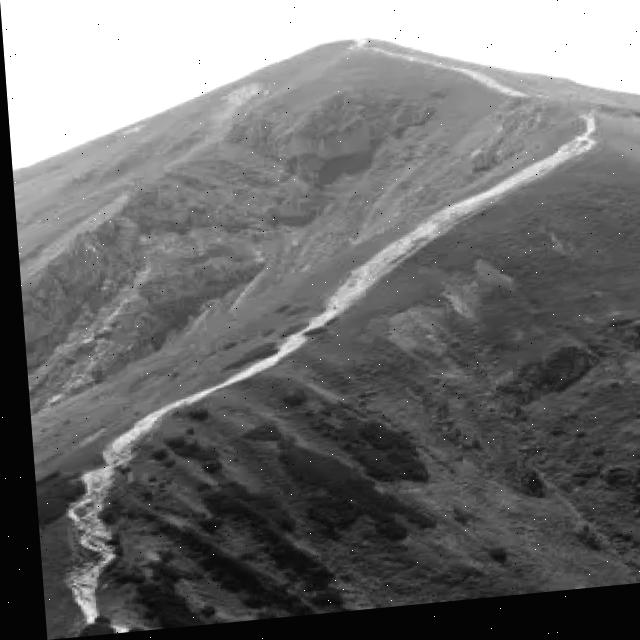Kopa Kondracka: (172, 0, 531, 127)
